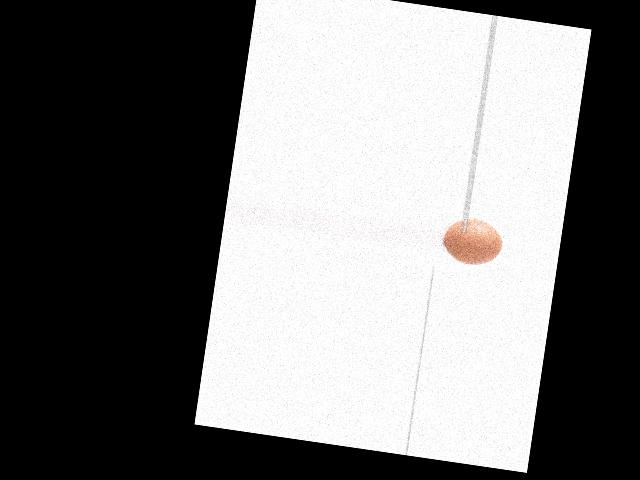egg: (442, 214, 505, 268)
